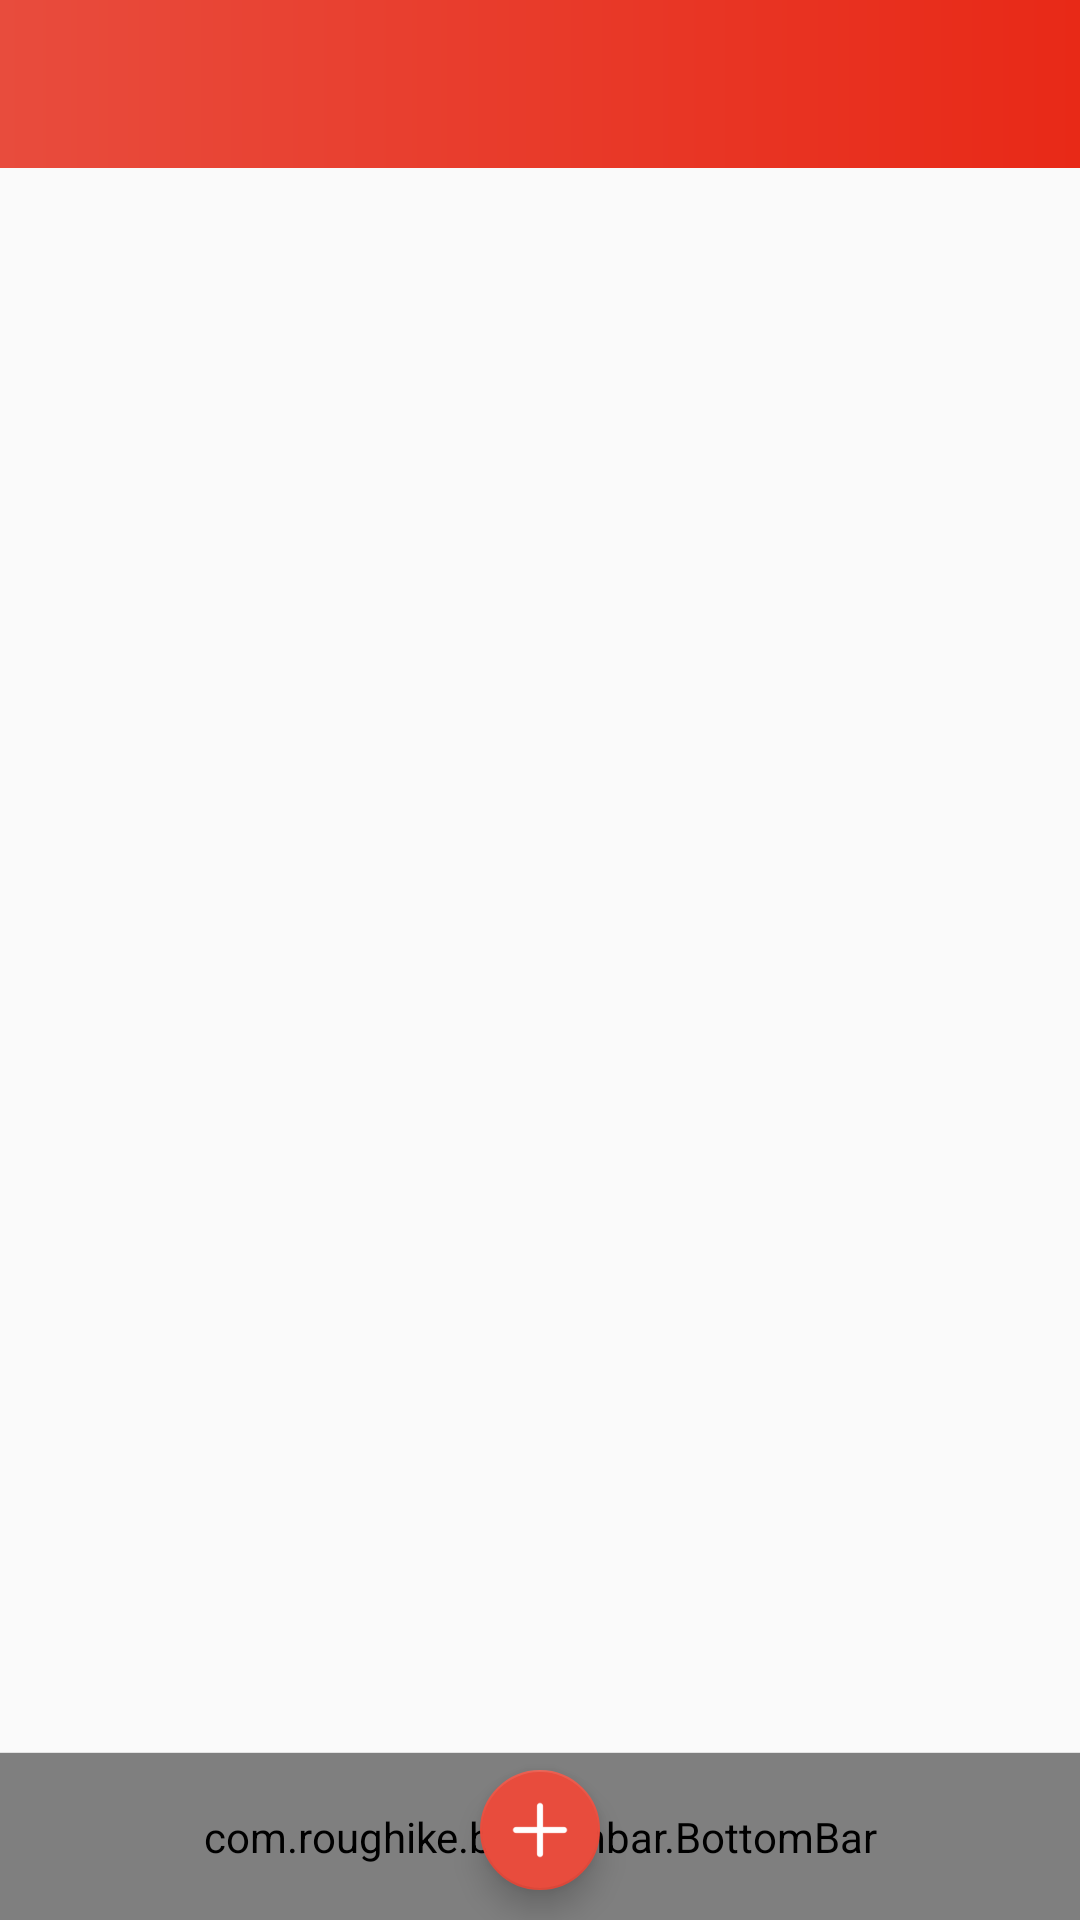

Icons on this 1080*1920 Android screen, each with its box as (x1, y1, x2, y2):
plus: (480, 1770, 600, 1890)
